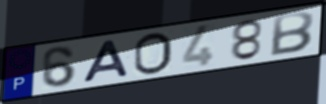4: (180, 23, 217, 69)
6: (40, 45, 79, 90)
8: (230, 19, 264, 61)
A: (79, 38, 133, 84)
B: (267, 10, 316, 58)
O: (131, 31, 174, 77)
